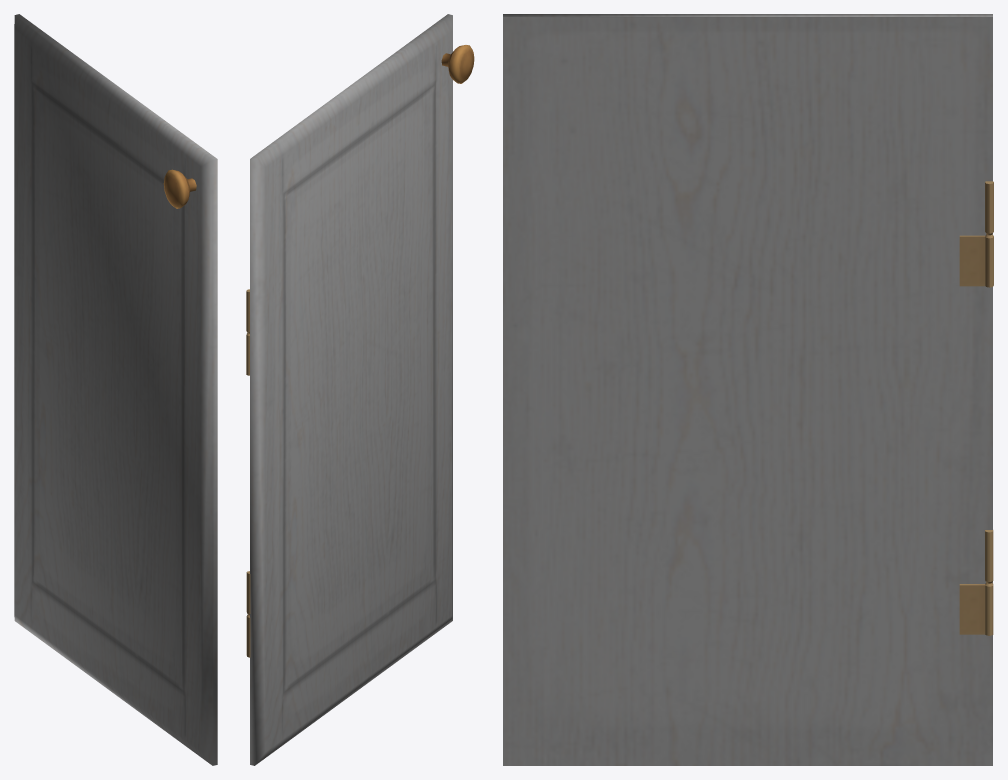
File: SM_KitchenSet_A2_DoorB2.fbx
3 renders of one model, left to right at view 1: azimuth 30°, elevation 25°; view 2: azimuth 150°, elevation 25°; view 3: azimuth 270°, elevation 25°, orthographic. The views are drawn at different scales.
Parts seen in each view (by area): view 1: SM_KitchenSet_A2_DoorB2; view 2: SM_KitchenSet_A2_DoorB2; view 3: SM_KitchenSet_A2_DoorB2.
Boxes of the visible parts, left/top/right/bottom form: SM_KitchenSet_A2_DoorB2: left=14, top=14, right=217, bottom=765; SM_KitchenSet_A2_DoorB2: left=246, top=14, right=474, bottom=765; SM_KitchenSet_A2_DoorB2: left=503, top=14, right=993, bottom=765.
Size of the model in its own units: 3.96 by 33.82 by 56.93.
2 materials, 2 textured.
